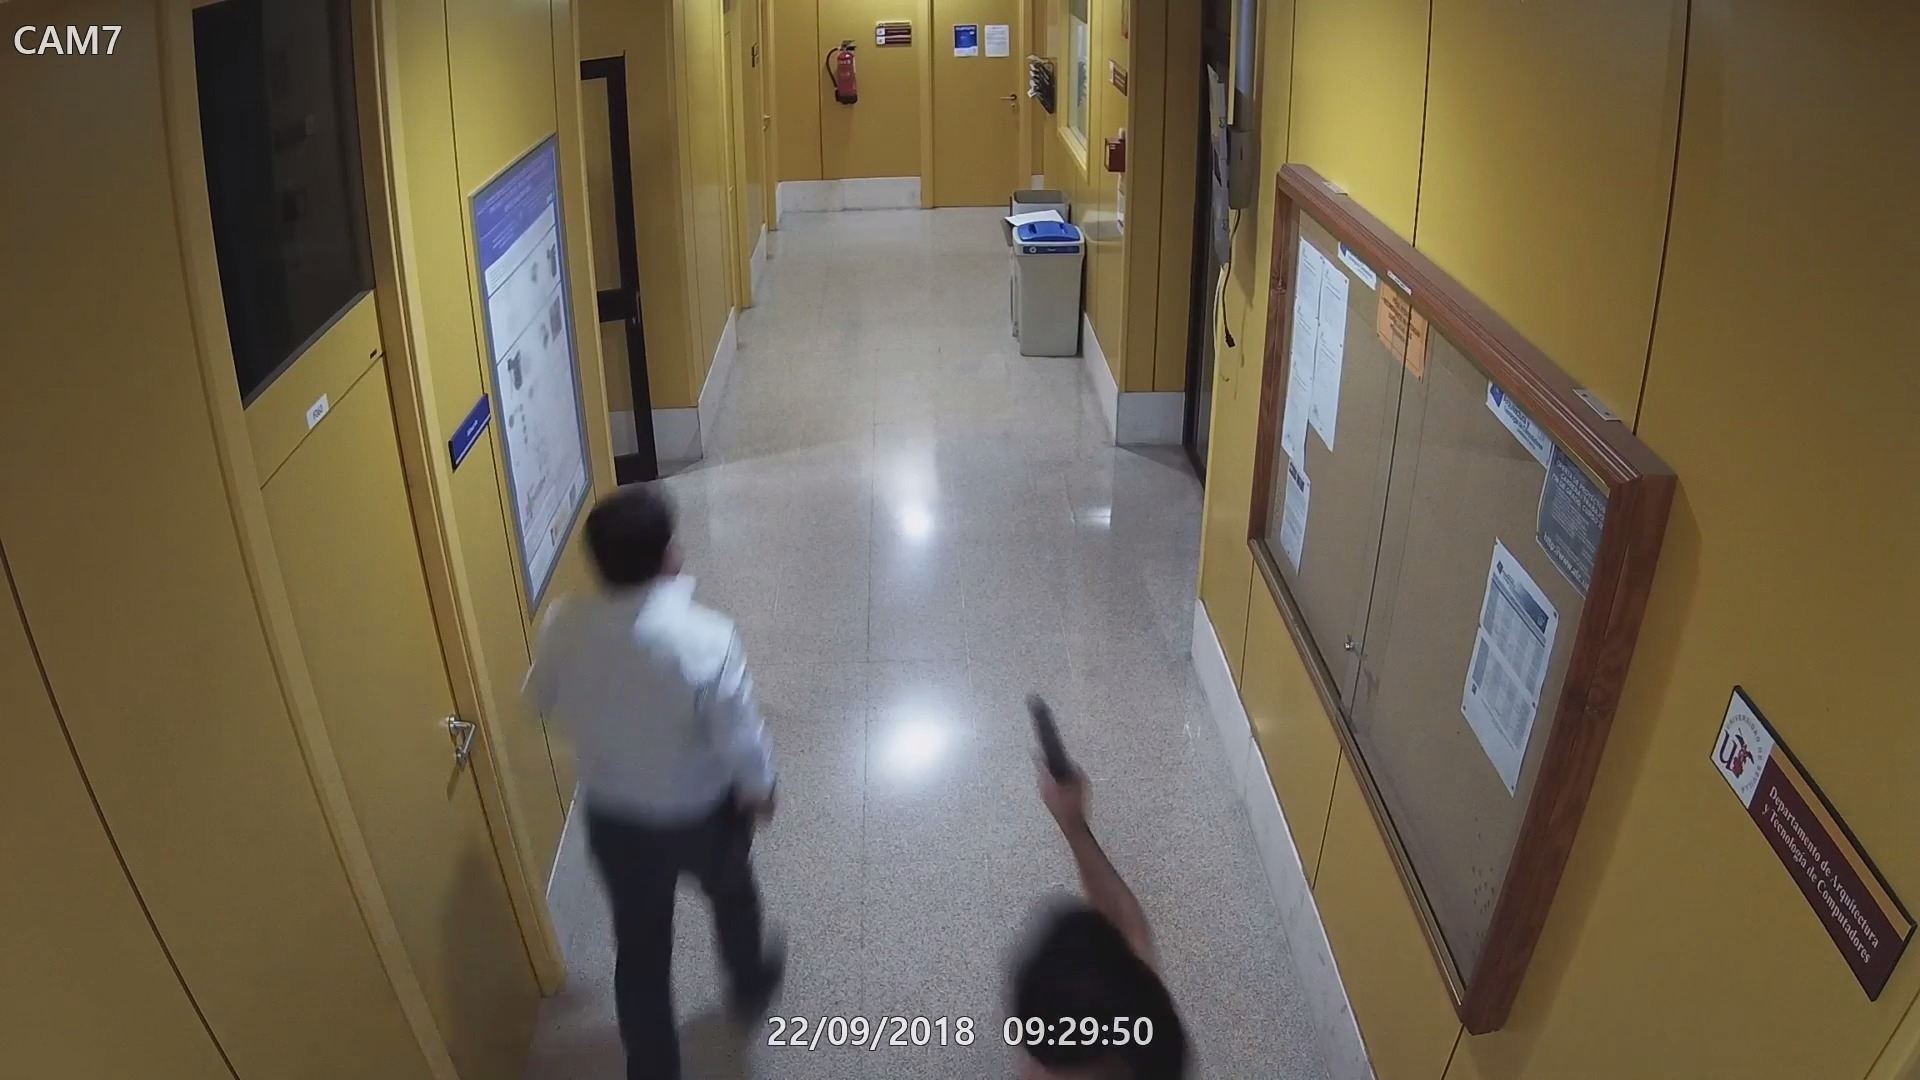Handgun: (1026, 680, 1079, 793)
